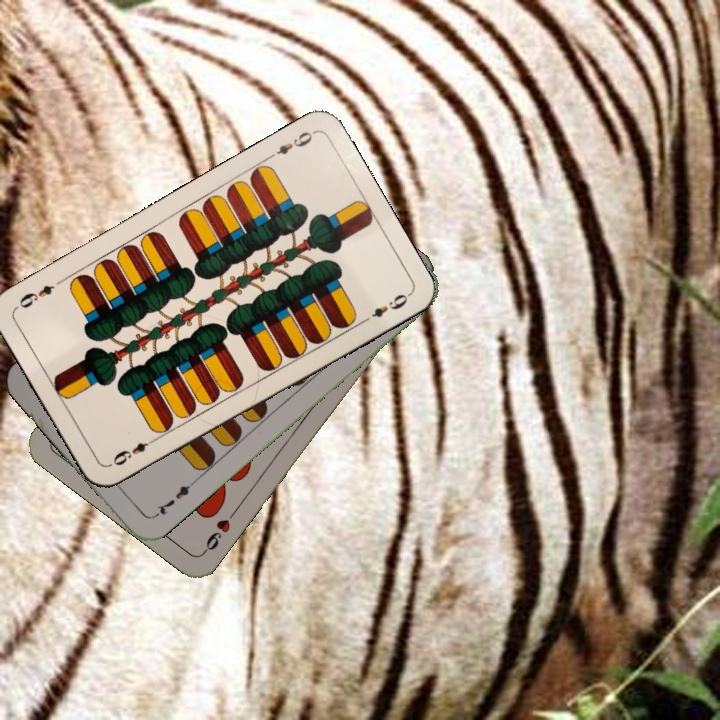E7: (148, 478, 197, 521)
E9: (106, 434, 160, 469), (263, 127, 317, 162)
H9: (198, 506, 239, 557)
